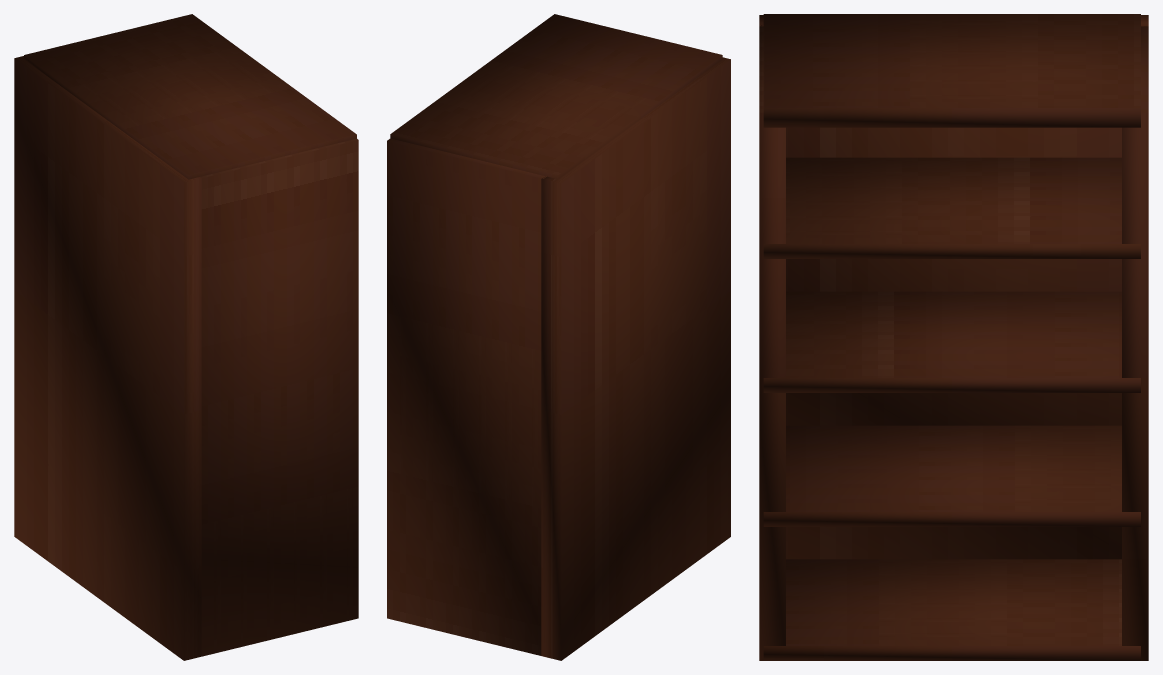
Rendered from etagere.glb.
3 renders of one model, left to right at view 1: azimuth 30°, elevation 25°; view 2: azimuth 150°, elevation 25°; view 3: azimuth 270°, elevation 25°, orthographic. The views are drawn at different scales.
Visible parts, largest first — view 1: etagere; view 2: etagere; view 3: etagere.
Part boxes in pixels (x1,y1,x2,y2): etagere: [14, 14, 358, 660]; etagere: [387, 14, 730, 660]; etagere: [759, 14, 1148, 660].
Size of the model in its own units: 1.01 by 2.67 by 1.71.
Materials: 1 (1 with a texture image).
